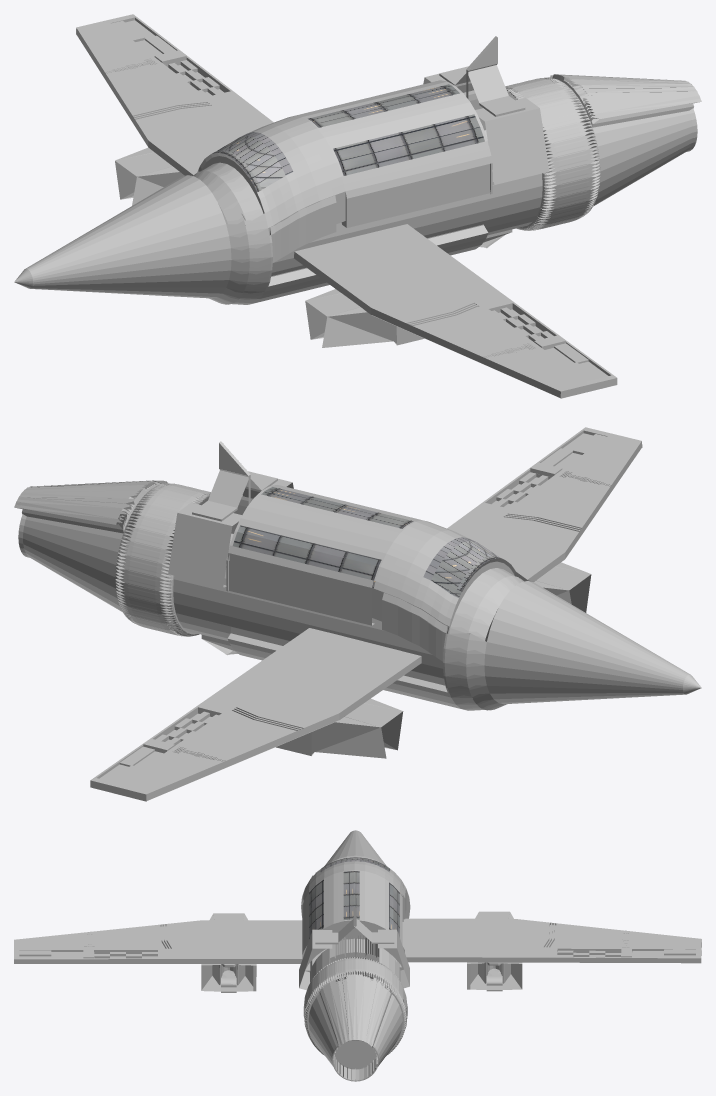
Rendered from samolot.obj.
The picture shows the model from 3 angles, top to bottom: view 1: azimuth 30°, elevation 25°; view 2: azimuth 150°, elevation 25°; view 3: azimuth 270°, elevation 25°; orthographic projection. The views are drawn at different scales.
Parts seen in each view (by area): view 1: Body_Cylinder, Wing_1_Cube.001, Wing_2_Cube.003, Body_Glass_Cylinder.001, Engine_2_Cube.002, Engine_1_Cube.004; view 2: Body_Cylinder, Wing_2_Cube.003, Wing_1_Cube.001, Body_Glass_Cylinder.001, Engine_1_Cube.004, Engine_2_Cube.002; view 3: Body_Cylinder, Wing_2_Cube.003, Wing_1_Cube.001, Body_Glass_Cylinder.001, Engine_1_Cube.004, Engine_2_Cube.002.
Boxes of the visible parts, <box> form: Body_Cylinder: <box>14,36,701,304</box>; Wing_1_Cube.001: <box>294,224,617,398</box>; Wing_2_Cube.003: <box>76,14,273,175</box>; Body_Glass_Cylinder.001: <box>212,84,484,192</box>; Engine_2_Cube.002: <box>305,289,424,347</box>; Engine_1_Cube.004: <box>115,147,184,205</box>; Body_Cylinder: <box>14,441,701,710</box>; Wing_2_Cube.003: <box>90,628,421,801</box>; Wing_1_Cube.001: <box>447,427,642,581</box>; Body_Glass_Cylinder.001: <box>232,487,504,597</box>; Engine_1_Cube.004: <box>276,698,403,758</box>; Engine_2_Cube.002: <box>534,562,591,612</box>; Body_Cylinder: <box>299,830,410,1081</box>; Wing_2_Cube.003: <box>403,918,701,963</box>; Wing_1_Cube.001: <box>14,920,302,963</box>; Body_Glass_Cylinder.001: <box>309,857,402,939</box>; Engine_1_Cube.004: <box>467,911,522,991</box>; Engine_2_Cube.002: <box>201,913,256,992</box>.
Bounding box in the file's own units: 10.51 × 3.05 × 13.2.
Materials: 2 (1 with a texture image).
